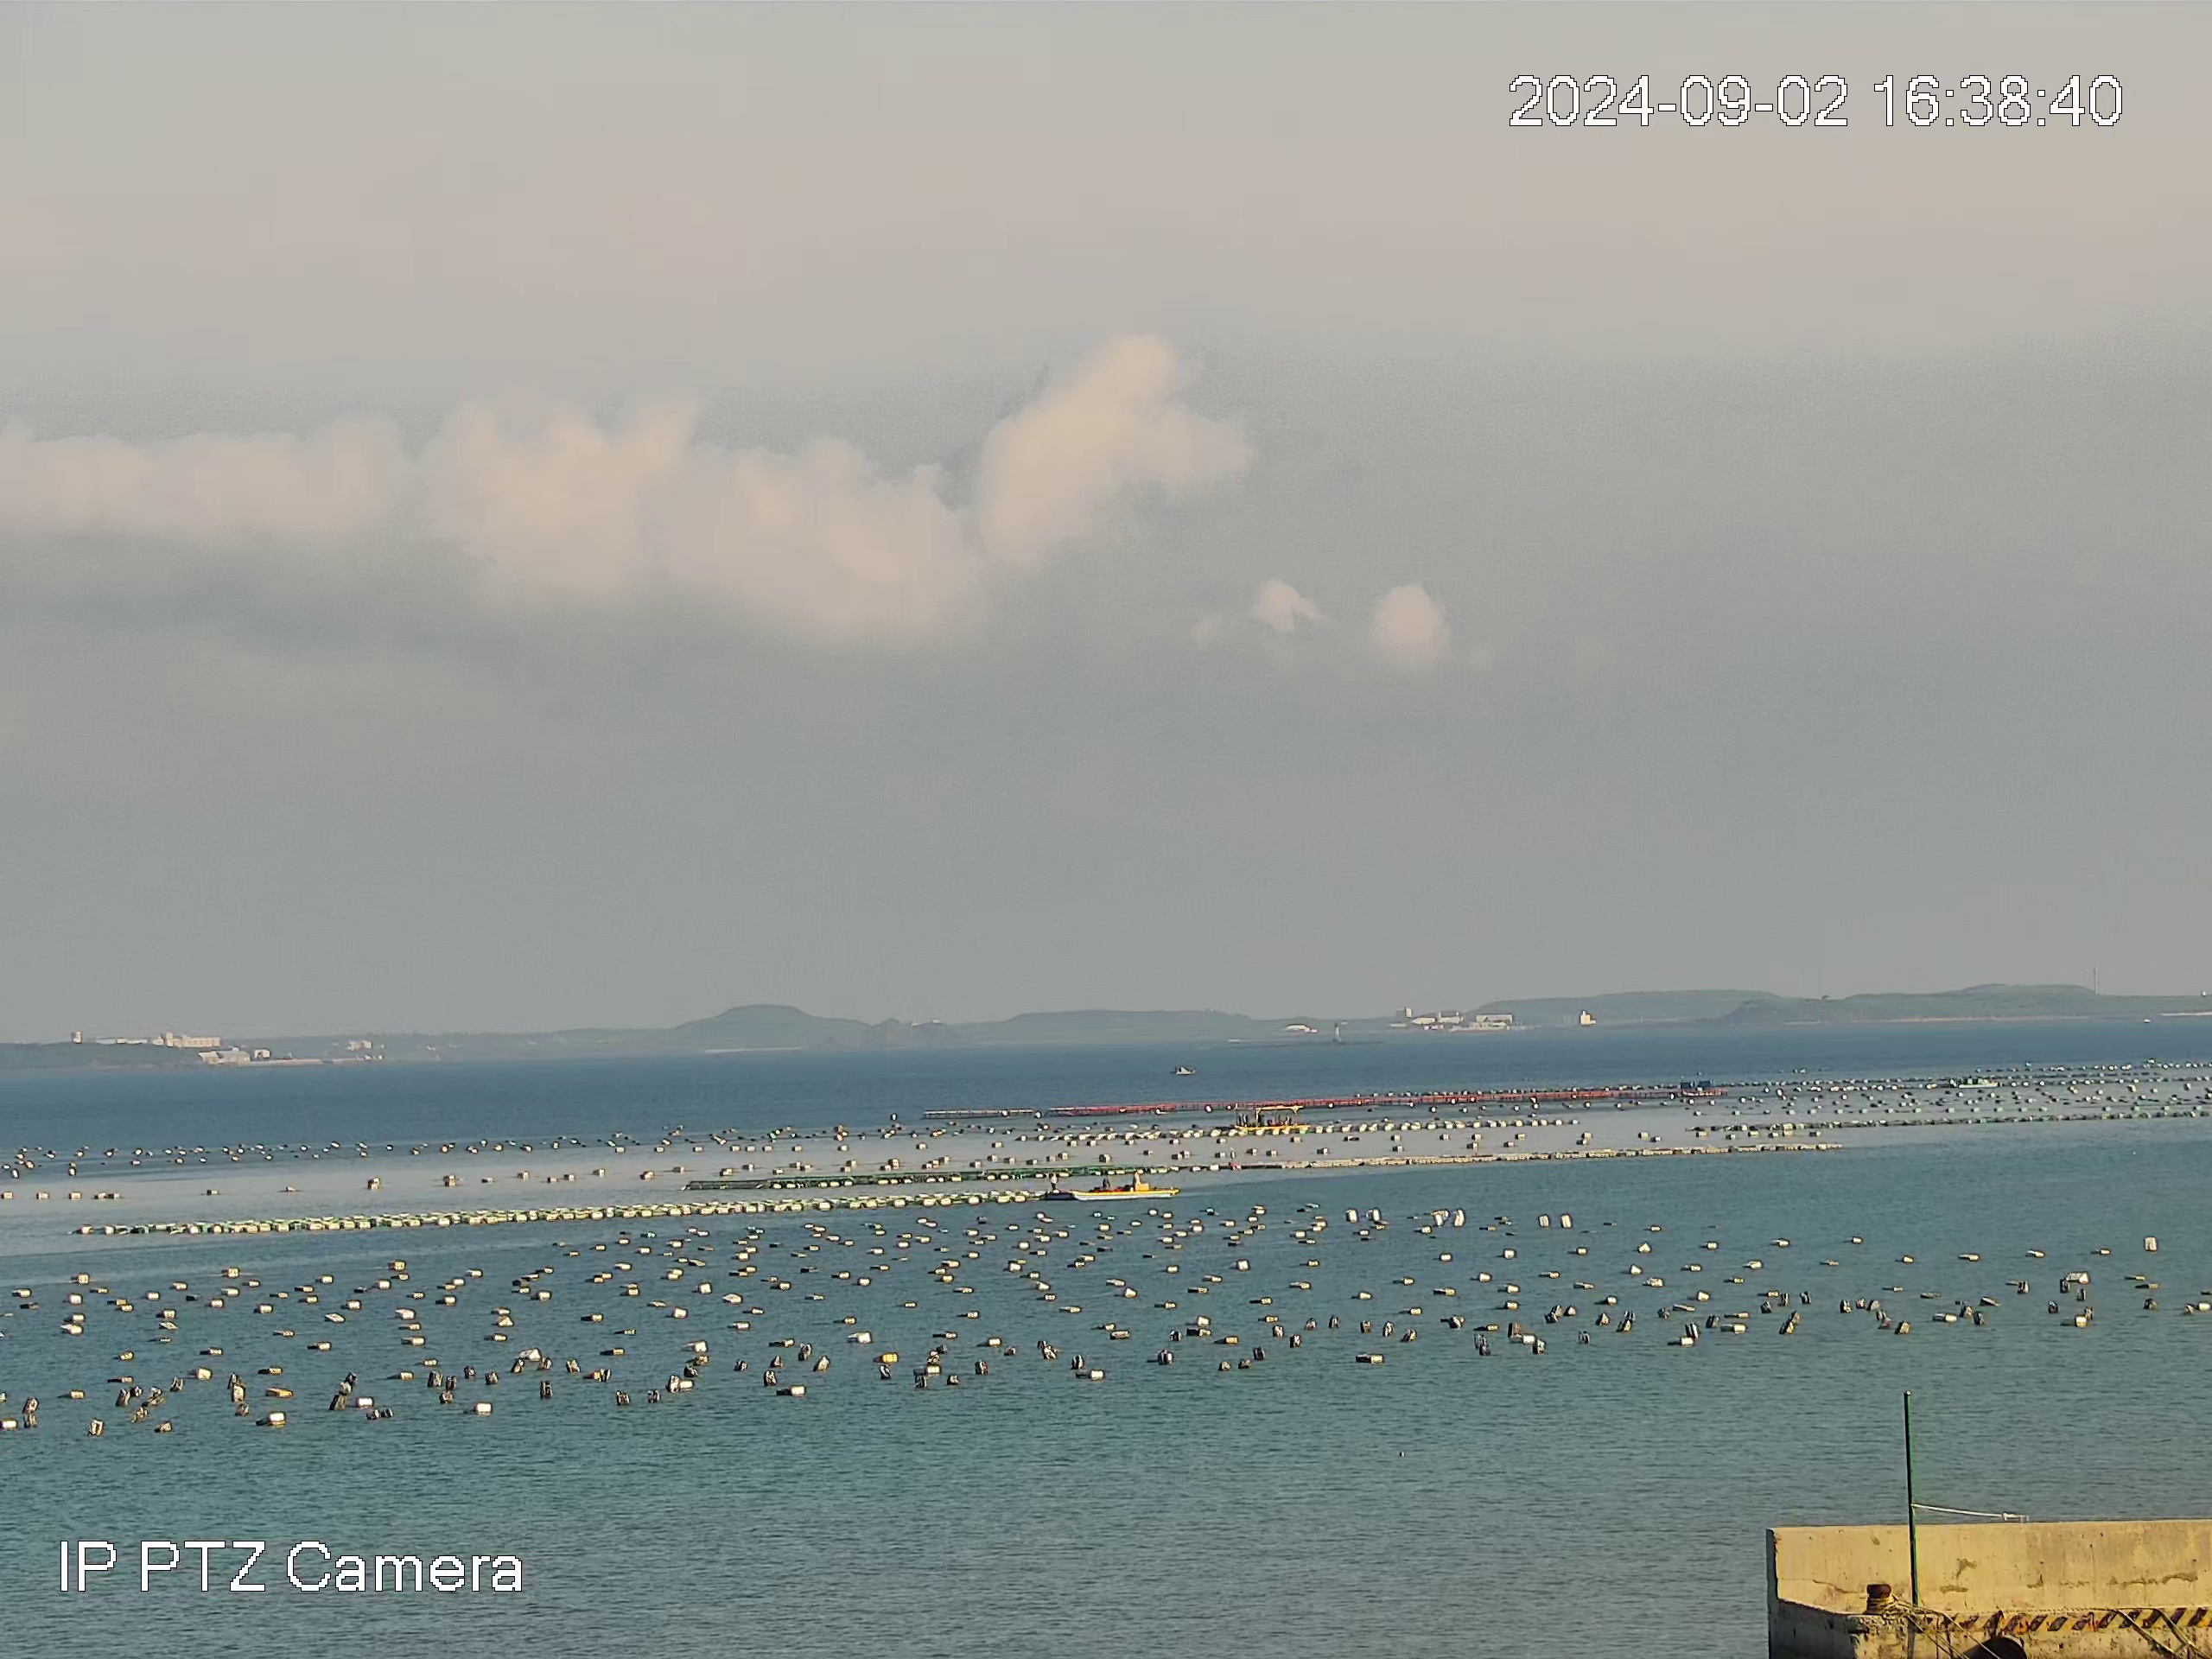boat: (1038, 1169, 1181, 1202), (1231, 1103, 1310, 1131), (1956, 1075, 1998, 1089)
